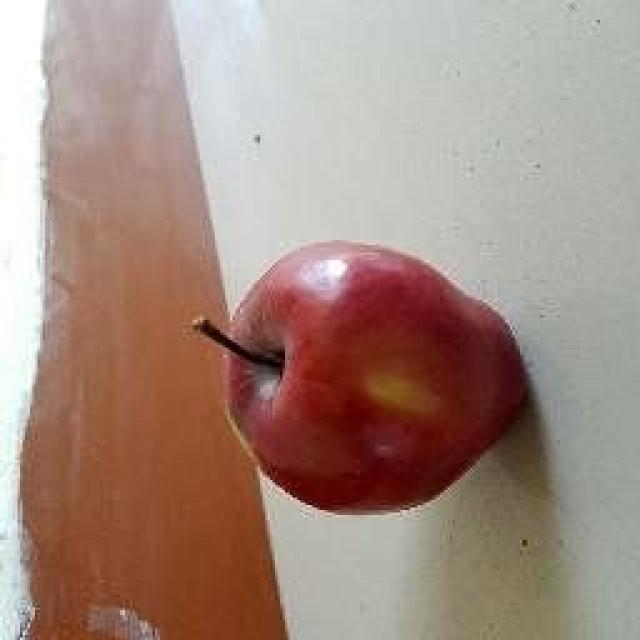Good_Apple: (231, 242, 526, 512)
